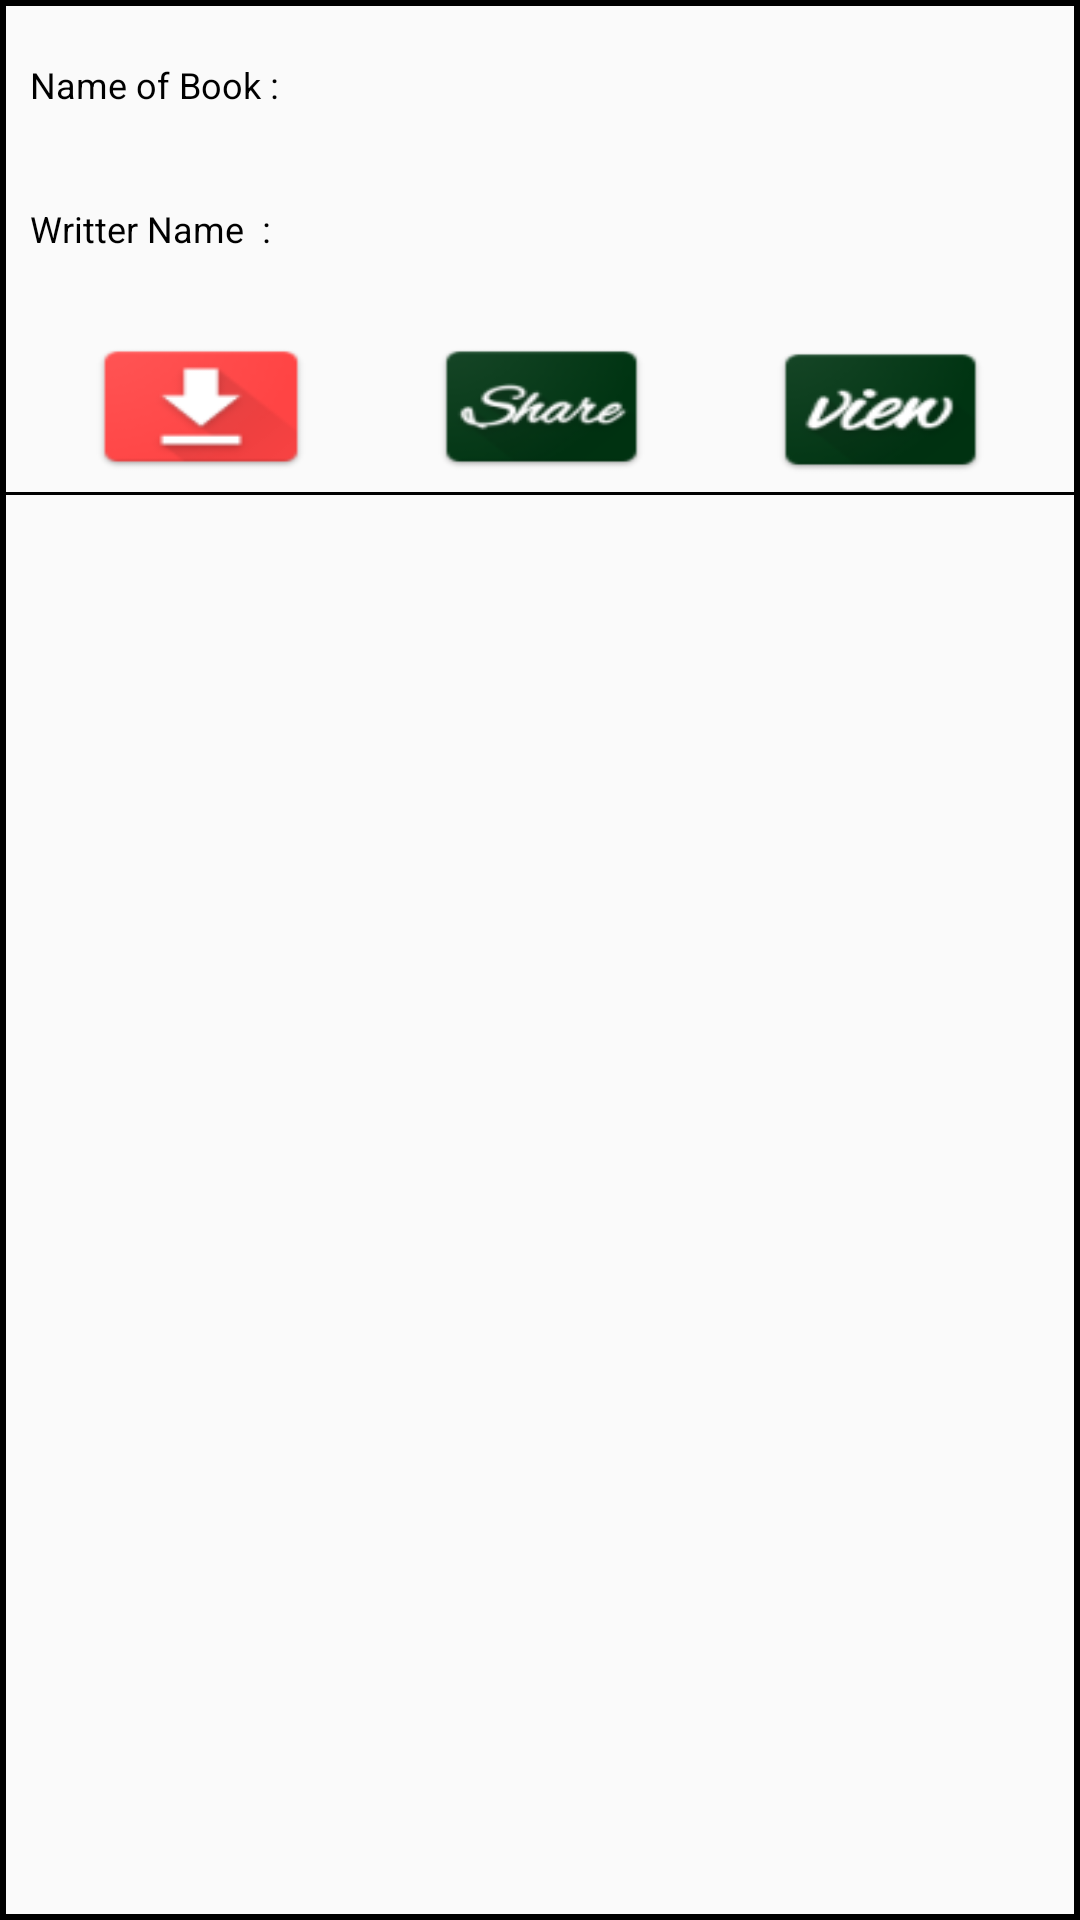

Locate icon controls on the screen. Image size 1080×1920, boxes as rect(x1, y1, x2, y2).
download: rect(103, 351, 299, 465)
